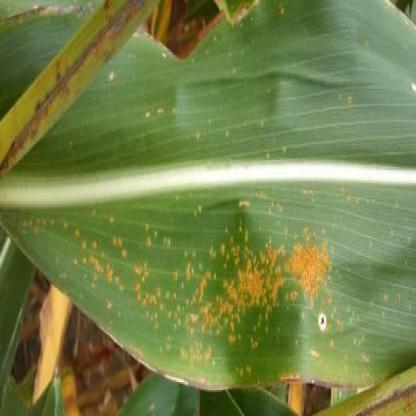Corn rust leaf: (2, 3, 280, 414)
